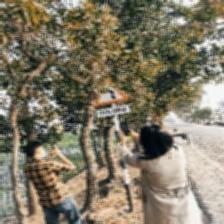Left-Turn: (94, 87, 131, 120)
